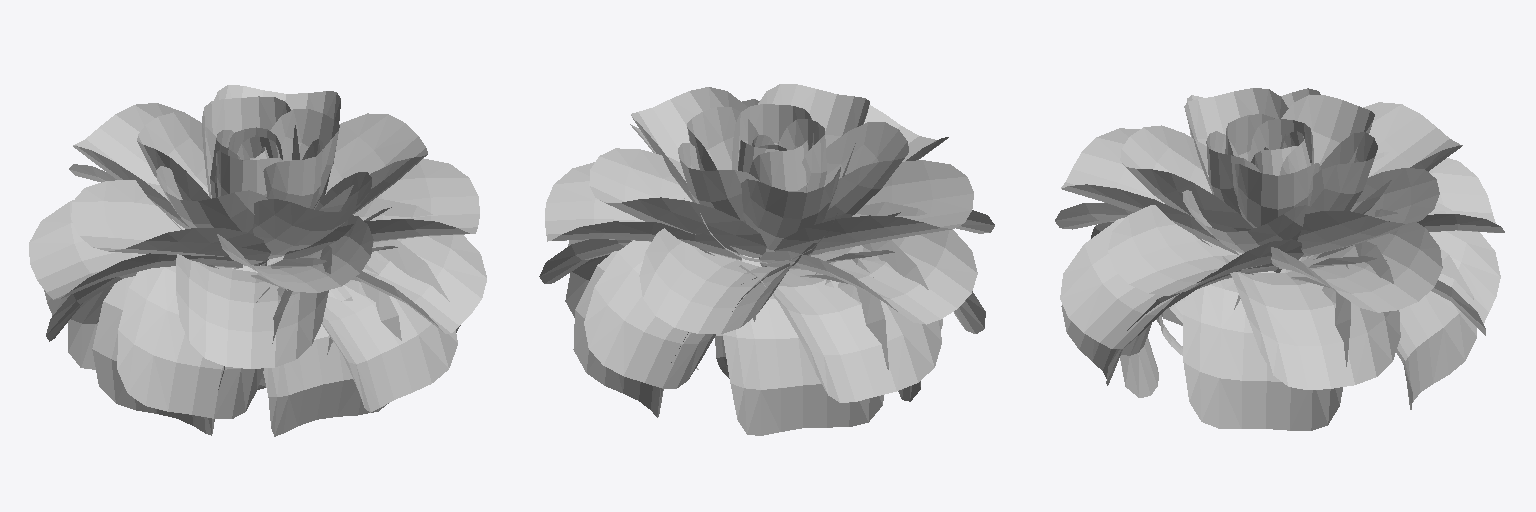
The model's file is FlowerTopModel_03_seq_0055.obj.
The picture shows the model from 3 angles: view 1: azimuth 30°, elevation 25°; view 2: azimuth 150°, elevation 25°; view 3: azimuth 270°, elevation 25°; orthographic projection.
Visible parts, largest first — view 1: FlowerTopModel_03; view 2: FlowerTopModel_03; view 3: FlowerTopModel_03.
Part boxes in pixels (left/top/right/bottom): FlowerTopModel_03: left=29, top=85, right=486, bottom=436; FlowerTopModel_03: left=539, top=84, right=994, bottom=435; FlowerTopModel_03: left=1055, top=88, right=1504, bottom=430.
Bounding box in the file's own units: 941 × 547 × 921.